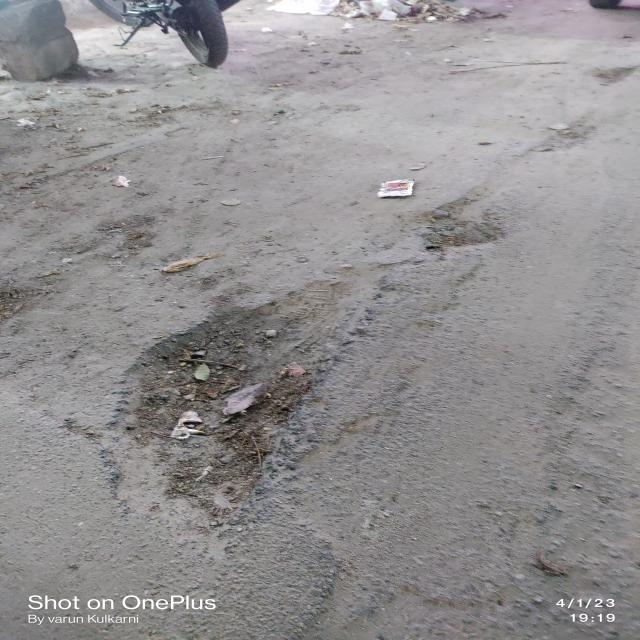potholes: (99, 252, 415, 533)
